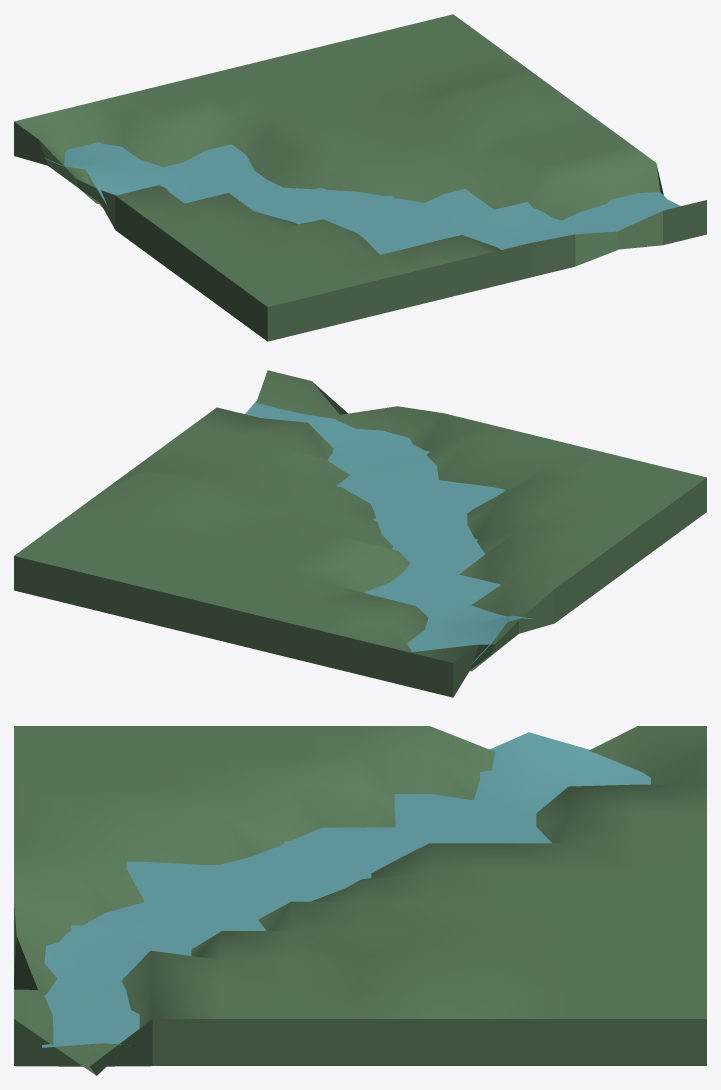
Rendered from rivier.fbx.
3 views of the same model, one above another, from view 1: azimuth 30°, elevation 25°; view 2: azimuth 150°, elevation 25°; view 3: azimuth 270°, elevation 25° (orthographic). The views are drawn at different scales.
Parts seen in each view (by area): view 1: pPlane5, pPlane6; view 2: pPlane5, pPlane6; view 3: pPlane5, pPlane6.
Part boxes in pixels (<box>): pPlane5: <box>14,14,706,341</box>; pPlane6: <box>44,142,680,254</box>; pPlane5: <box>14,370,706,697</box>; pPlane6: <box>245,400,534,663</box>; pPlane5: <box>14,726,706,1075</box>; pPlane6: <box>42,732,650,1047</box>.
Size of the model in its own units: 16.65 by 3.24 by 16.65.
